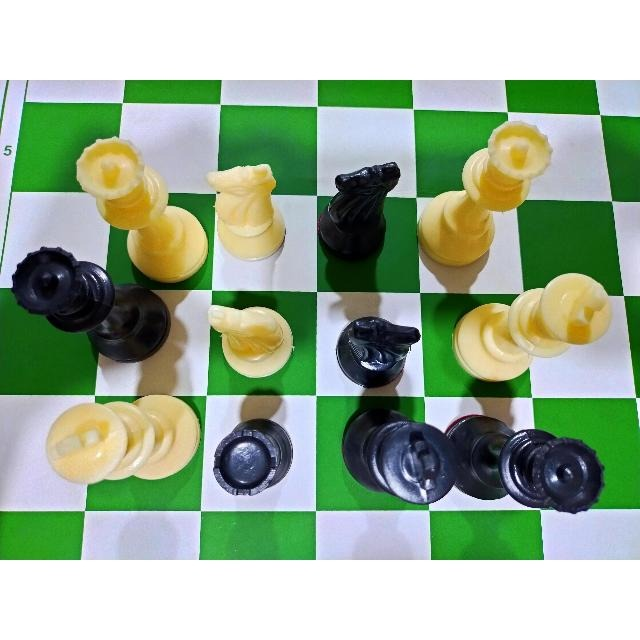black-king: (336, 404, 457, 507)
black-knight: (320, 158, 402, 265), (331, 315, 421, 389)
black-queen: (10, 245, 174, 362), (457, 405, 608, 517)
black-rook: (211, 415, 301, 498)
white-king: (448, 272, 614, 382), (42, 392, 205, 495)
white-knight: (203, 165, 290, 264), (208, 300, 296, 382)
white-queen: (421, 117, 553, 269), (71, 135, 209, 279)
